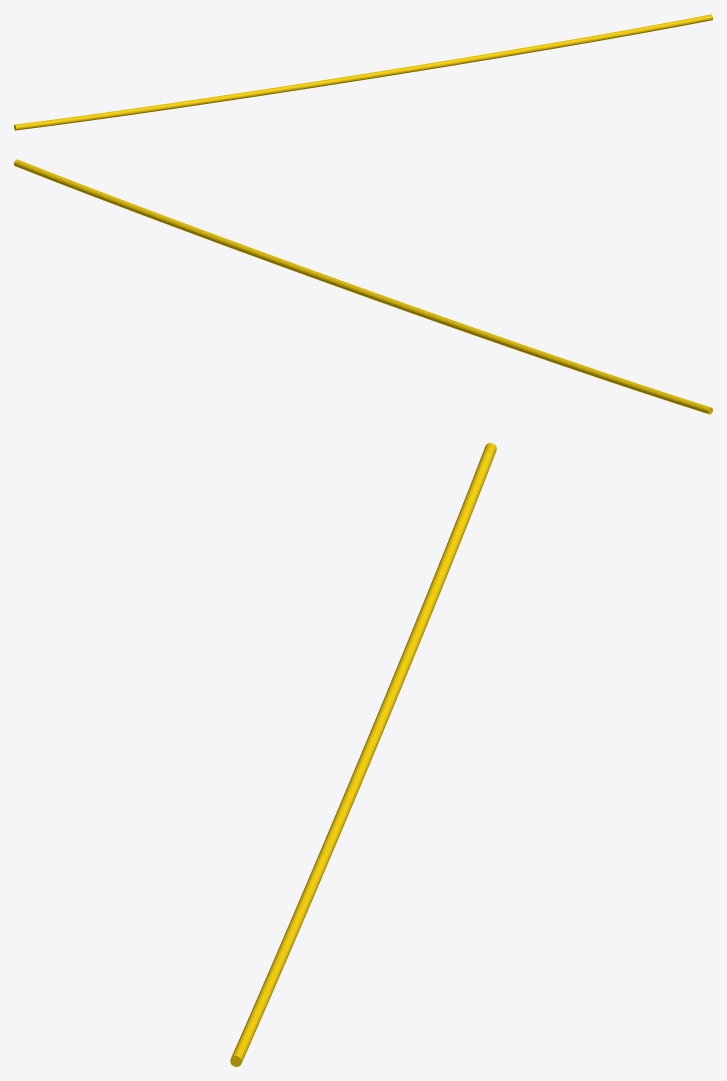
Rendered from Event_420107950_track_66.fbx.
3 renders of one model, top to bottom at view 1: azimuth 30°, elevation 25°; view 2: azimuth 150°, elevation 25°; view 3: azimuth 270°, elevation 25°, orthographic. The views are drawn at different scales.
Parts seen in each view (by area): view 1: Model; view 2: Model; view 3: Model.
Boxes of the visible parts, left/top/right/bottom form: Model: left=14, top=14, right=712, bottom=130; Model: left=14, top=159, right=712, bottom=414; Model: left=230, top=443, right=496, bottom=1066.
Bounding box in the file's own units: 4.92 × 0.0832 × 0.8957.
